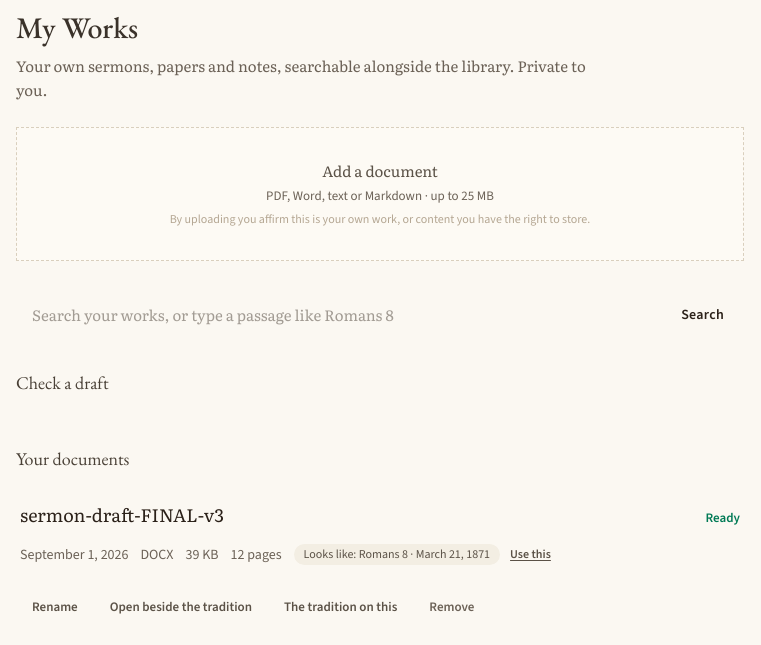
Test case: renaming a document in My Works › opens the edit with the current title, and saves the new one
Click the button with aria-label "Rename sermon-draft-FINAL-v3" at (55, 607), box 20,585 -> 90,629
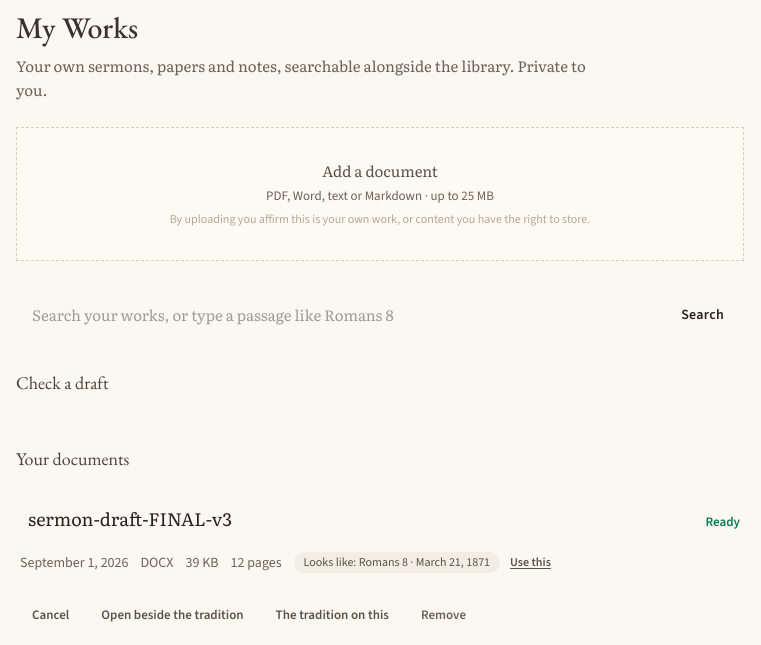
Check: the field named "name for this document" holds "sermon-draft-FINAL-v3"
Replace the text in the field named "name for this document" with "  Romans 8 — no condemnation " at (357, 519), box 20,501 -> 694,537
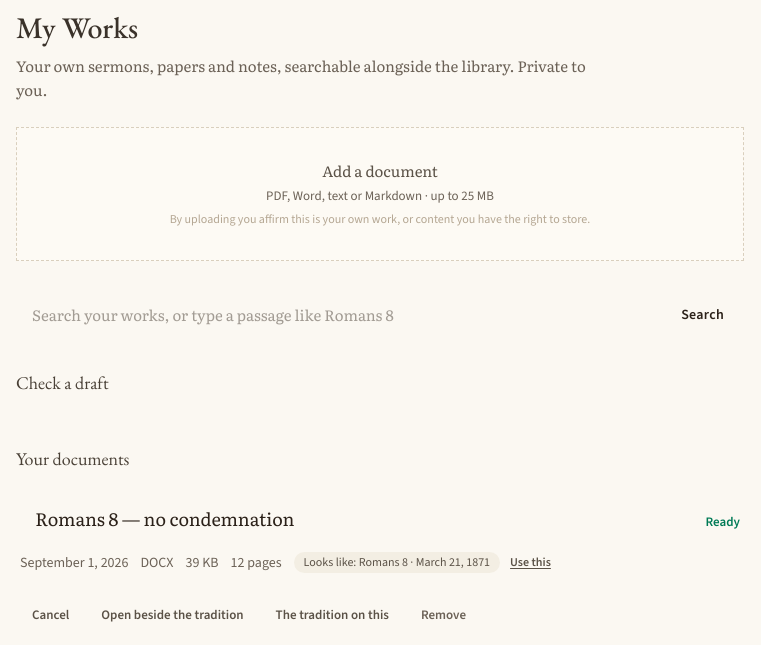
Submit the form named "name for this document", box 20,501 -> 694,537
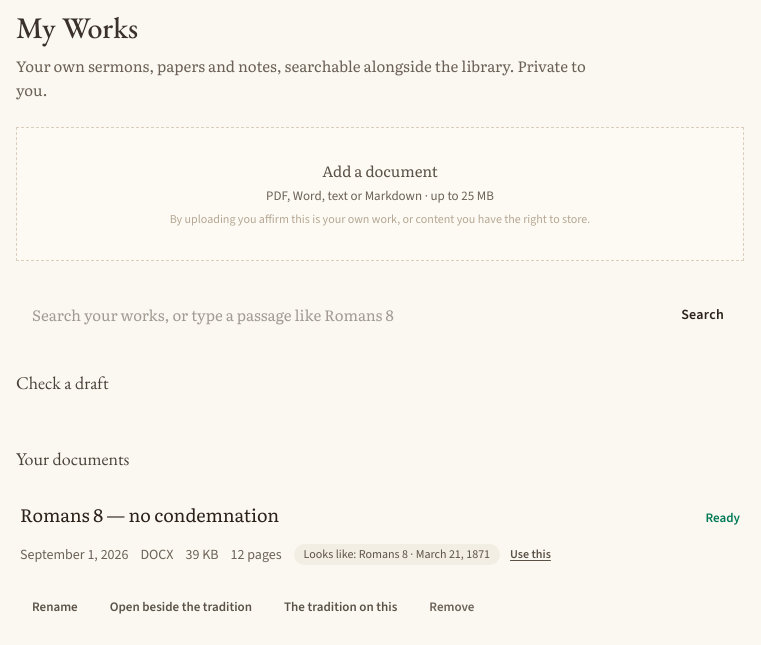
Check: the text "Romans 8 — no condemnation" is shown, box 20,501 -> 279,528
